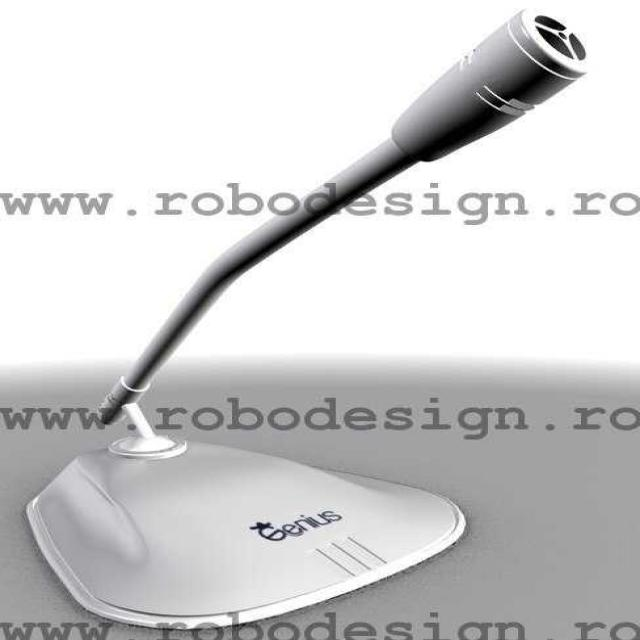microphone: (114, 13, 573, 403)
